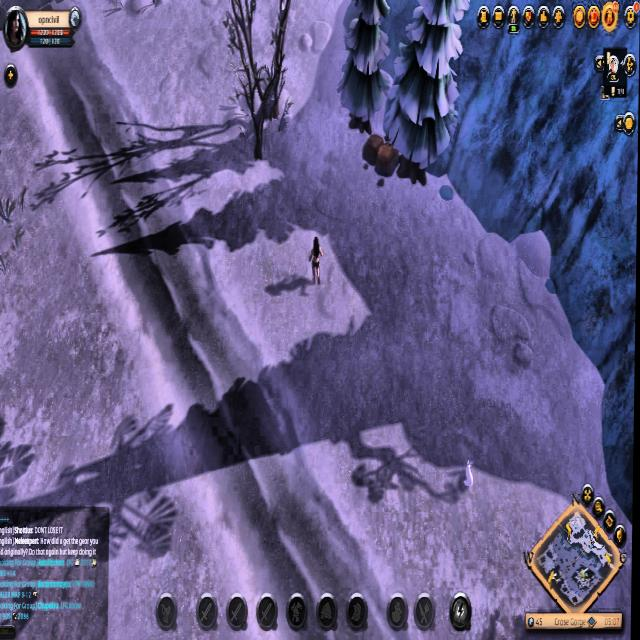limestone: (360, 130, 400, 188)
